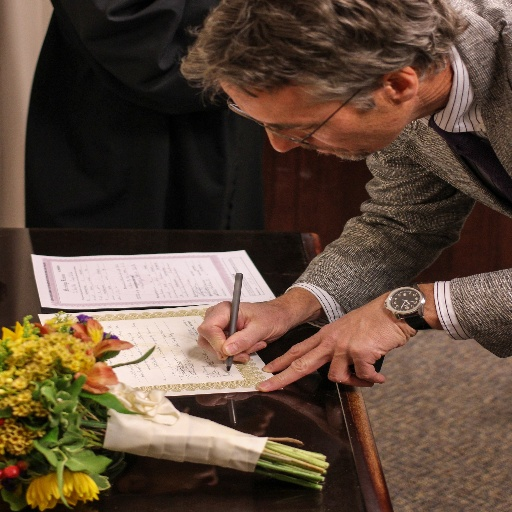hand: (252, 292, 418, 393), (195, 300, 298, 365)
